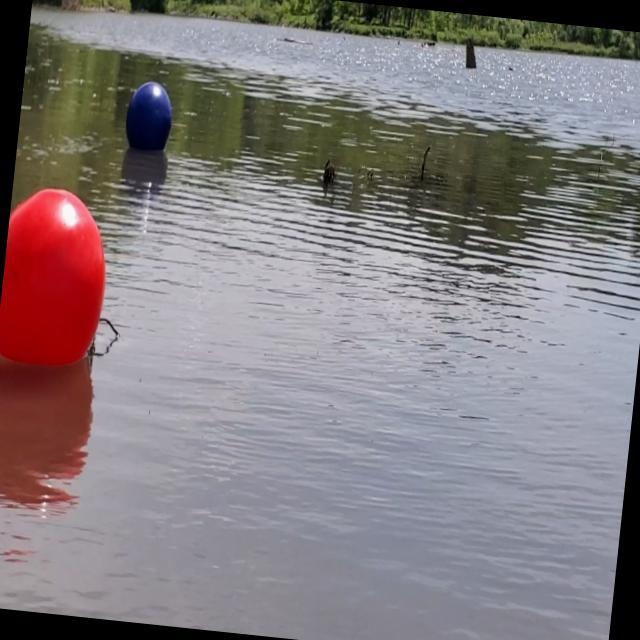buoy: (0, 176, 137, 385), (118, 74, 178, 164)
